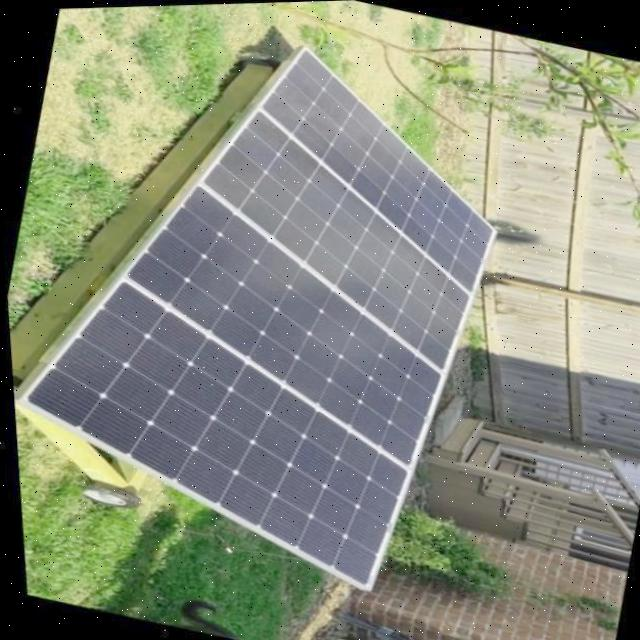Normal Solar Panel: (0, 0, 546, 605)
